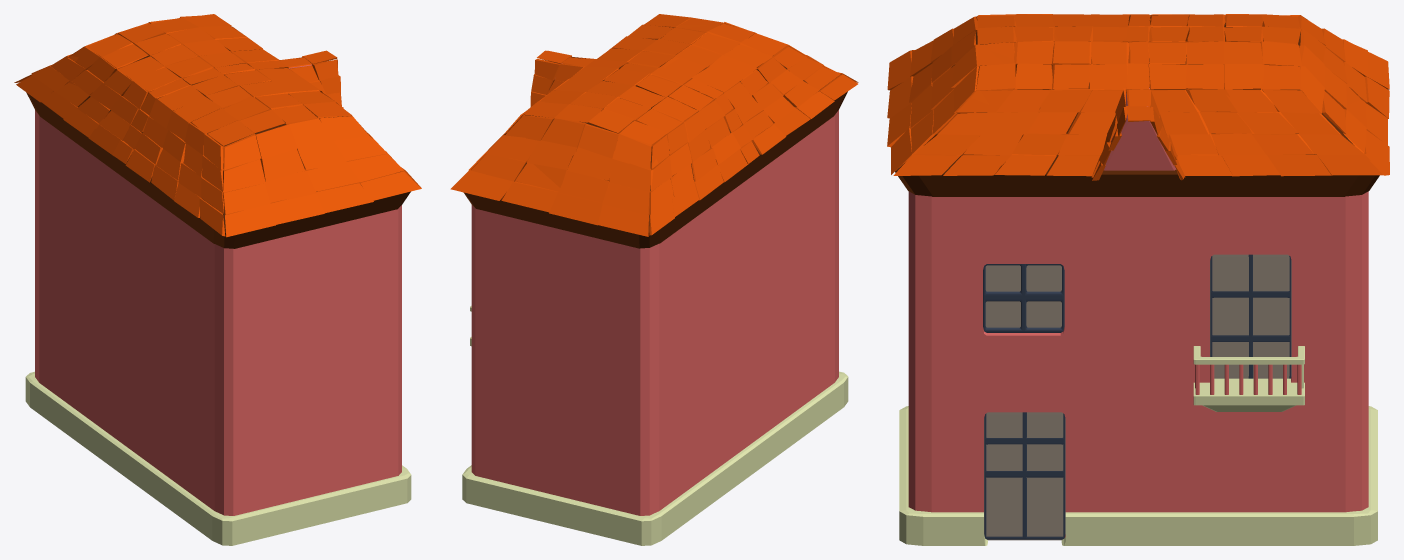
Rendered from House_03.fbx.
3 renders of one model, left to right at view 1: azimuth 30°, elevation 25°; view 2: azimuth 150°, elevation 25°; view 3: azimuth 270°, elevation 25°, orthographic. The views are drawn at different scales.
Parts seen in each view (by area): view 1: house03; view 2: house03; view 3: house03.
Boxes of the visible parts, bbox=[...] form: house03: bbox=[14, 14, 421, 545]; house03: bbox=[450, 14, 858, 545]; house03: bbox=[887, 14, 1389, 545].
Bounding box in the file's own units: 453 × 765 × 774.
